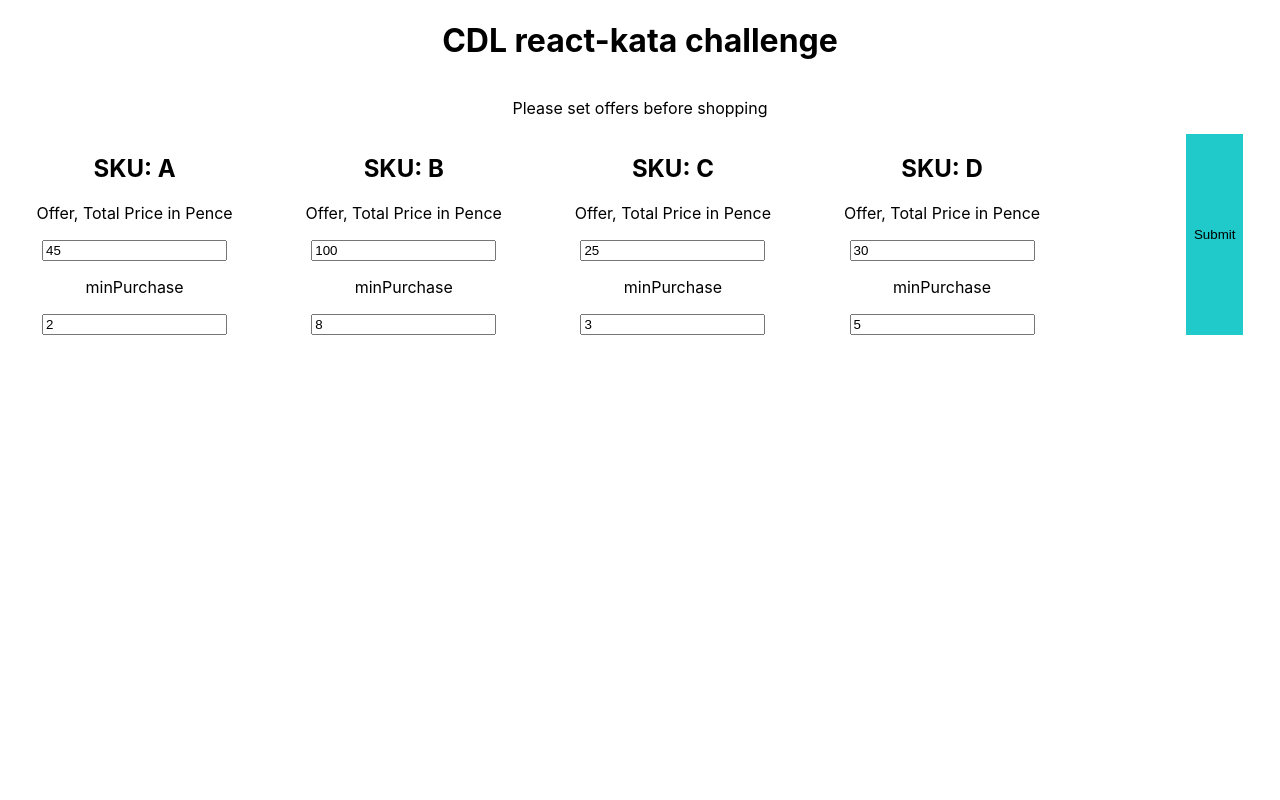
Test case: CDL Basket Kata › adds item to basket when add to basket is pressed
Click the button with test id "SubmitPricingForm" at (1215, 235), box [1186,134,1244,335]
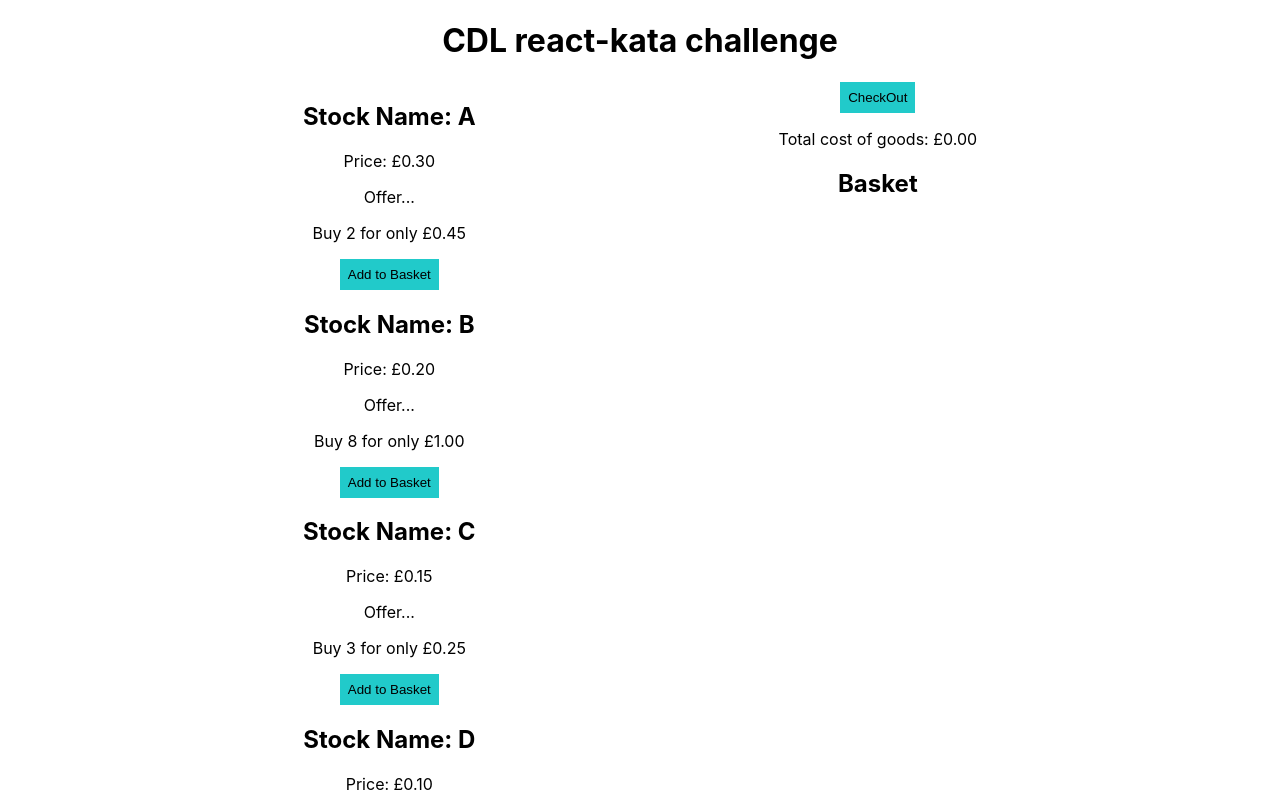
Click the button with test id "add A to basket" at (390, 275), box [340,259,439,290]
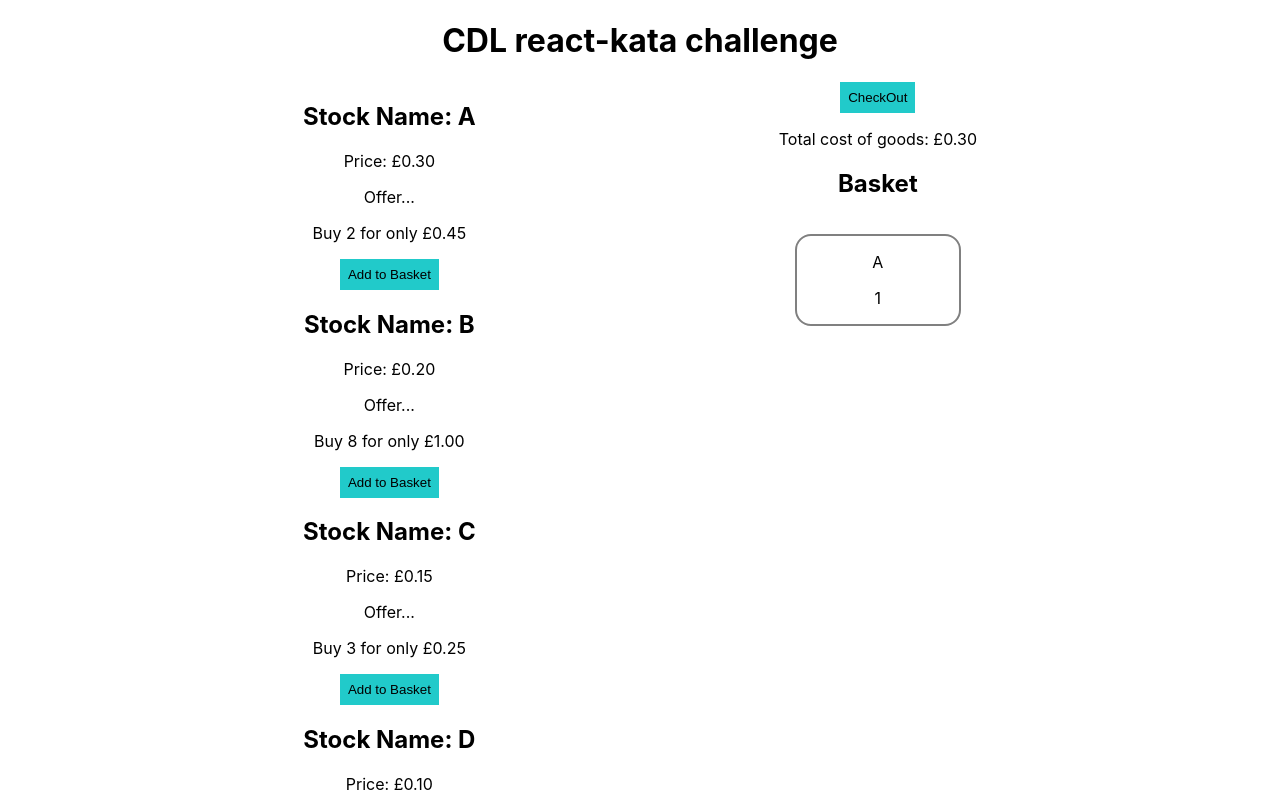
expect the text named "basket item" reads "A": met, box [872,252,883,272]
expect the text named "basket item count" reads "1": met, box [875,288,882,308]
